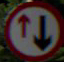Two way: (7, 4, 60, 57)
